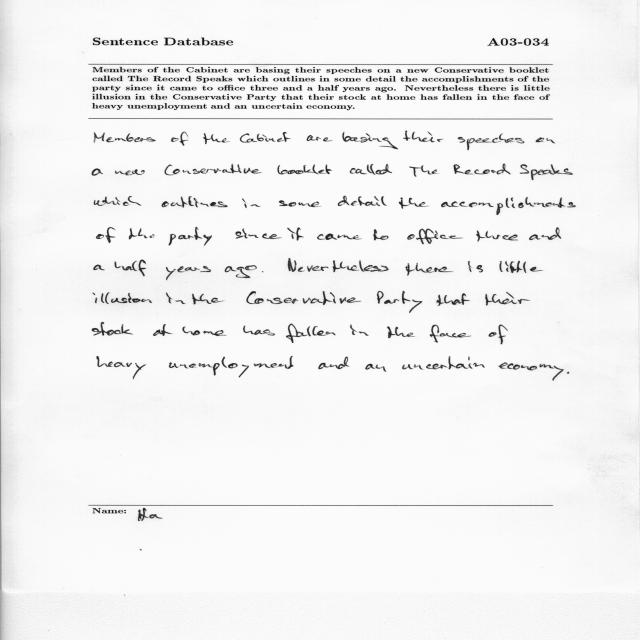word: (169, 356, 293, 377), (441, 197, 576, 215), (246, 291, 361, 305), (288, 258, 389, 272), (499, 363, 564, 381), (97, 356, 146, 379), (458, 133, 524, 150), (402, 357, 485, 370), (164, 164, 262, 175), (286, 323, 336, 343), (377, 291, 422, 313), (342, 132, 398, 149), (520, 164, 573, 180), (407, 229, 463, 244), (169, 227, 212, 246), (162, 196, 228, 208), (430, 325, 472, 343), (93, 292, 152, 304), (94, 132, 156, 143), (166, 266, 211, 280), (485, 292, 530, 305), (92, 322, 133, 336), (454, 164, 511, 174), (406, 263, 453, 275), (240, 132, 291, 143), (278, 165, 332, 175), (115, 260, 146, 277), (500, 261, 543, 273), (236, 228, 282, 239), (338, 196, 387, 206), (94, 196, 141, 206), (350, 164, 392, 175), (476, 231, 518, 242), (436, 293, 470, 306), (404, 131, 444, 142), (224, 265, 257, 278), (529, 227, 561, 240), (319, 357, 350, 370), (183, 327, 227, 336), (489, 325, 508, 345), (192, 294, 224, 305), (409, 165, 437, 177), (387, 327, 415, 339), (399, 198, 429, 209), (243, 326, 275, 336), (317, 233, 362, 240), (97, 227, 116, 243), (203, 133, 230, 144), (279, 201, 321, 208), (129, 228, 155, 239), (171, 132, 189, 146), (153, 324, 173, 336), (287, 228, 304, 241), (166, 293, 185, 304), (350, 325, 369, 336), (115, 170, 145, 176), (242, 199, 260, 209), (468, 261, 483, 273), (366, 364, 387, 372), (374, 229, 389, 240), (307, 135, 332, 141), (536, 138, 555, 144), (92, 169, 103, 176), (94, 265, 105, 271), (567, 372, 569, 374), (262, 271, 263, 273)
